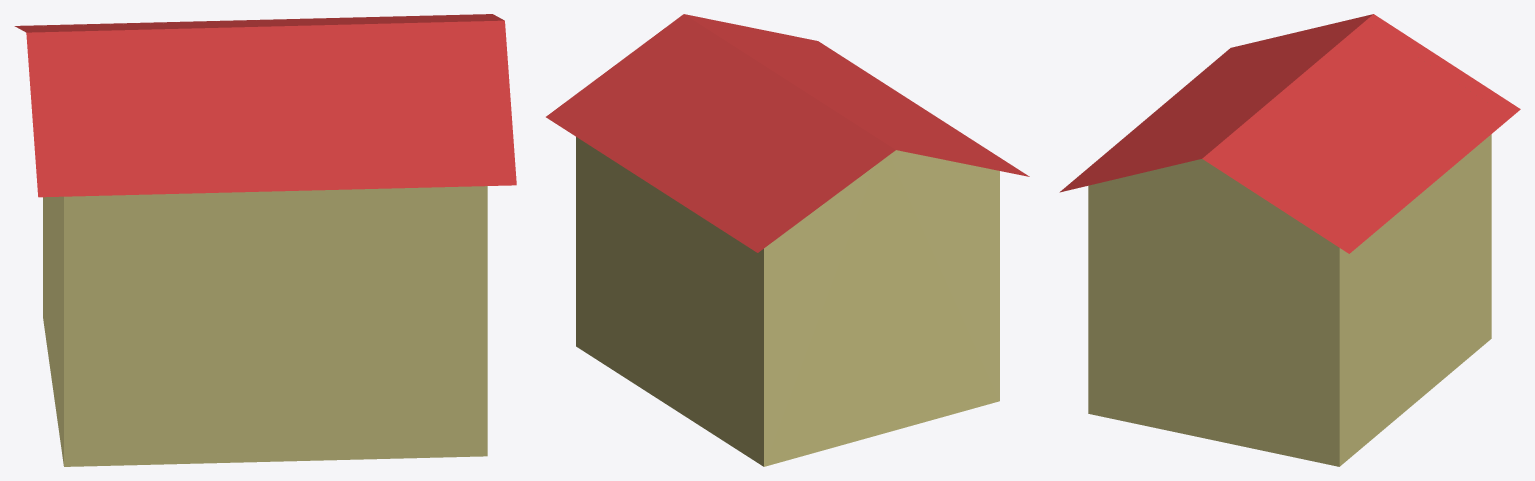
The picture shows the model from 3 angles, left to right: view 1: azimuth 30°, elevation 25°; view 2: azimuth 150°, elevation 25°; view 3: azimuth 270°, elevation 25°; orthographic projection. The views are drawn at different scales.
Size of the model in its own units: 11.14 by 10.54 by 7.29.
